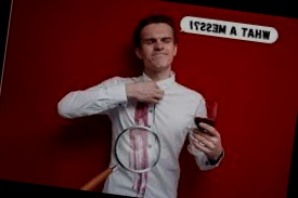wine: (124, 93, 151, 197), (131, 144, 154, 198)
